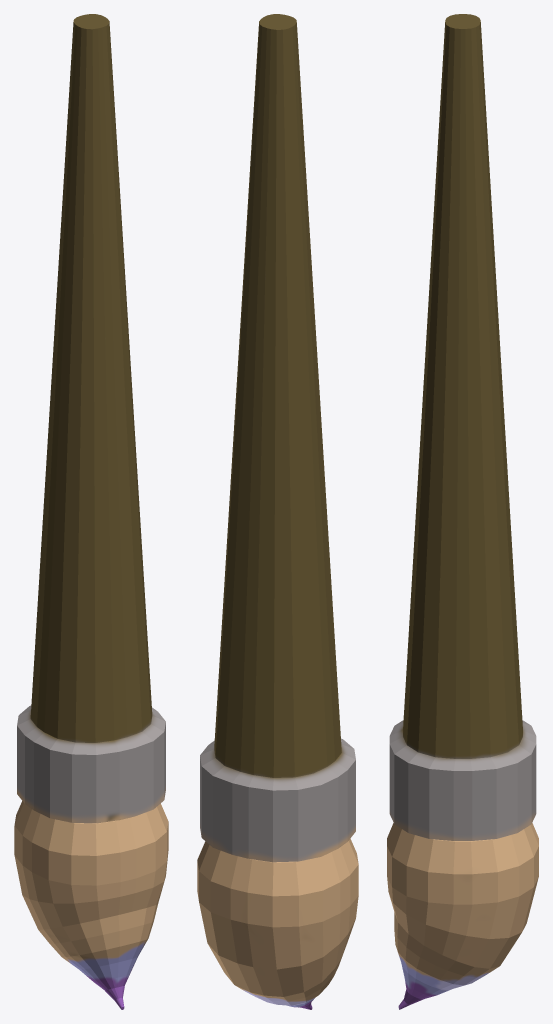
Rendered from PincelFin.glb.
The picture shows the model from 3 angles, left to right: view 1: azimuth 30°, elevation 25°; view 2: azimuth 150°, elevation 25°; view 3: azimuth 270°, elevation 25°; orthographic projection. The views are drawn at different scales.
Visible parts, largest first — view 1: Pincel_low; view 2: Pincel_low; view 3: Pincel_low.
Part boxes in pixels (x1=…): Pincel_low: x1=14, y1=14, x2=168, y2=1009; Pincel_low: x1=197, y1=14, x2=358, y2=1009; Pincel_low: x1=387, y1=14, x2=538, y2=1009.
Bounding box in the file's own units: 0.8569 × 6.15 × 0.8569.
1 material, 1 textured.
